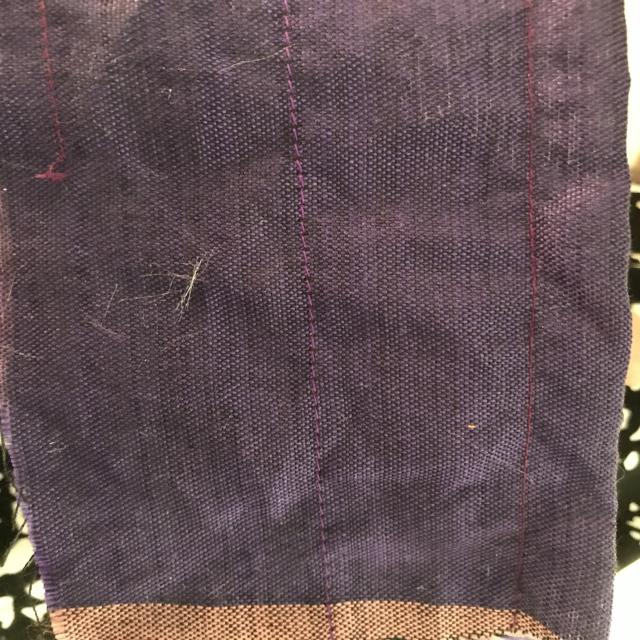good: (267, 84, 326, 178)
